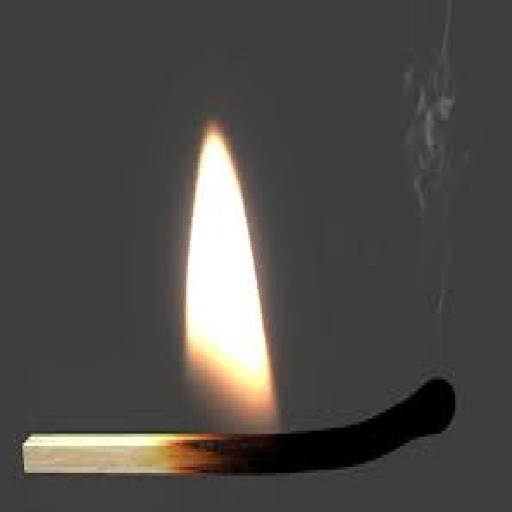fire: (160, 114, 315, 476)
